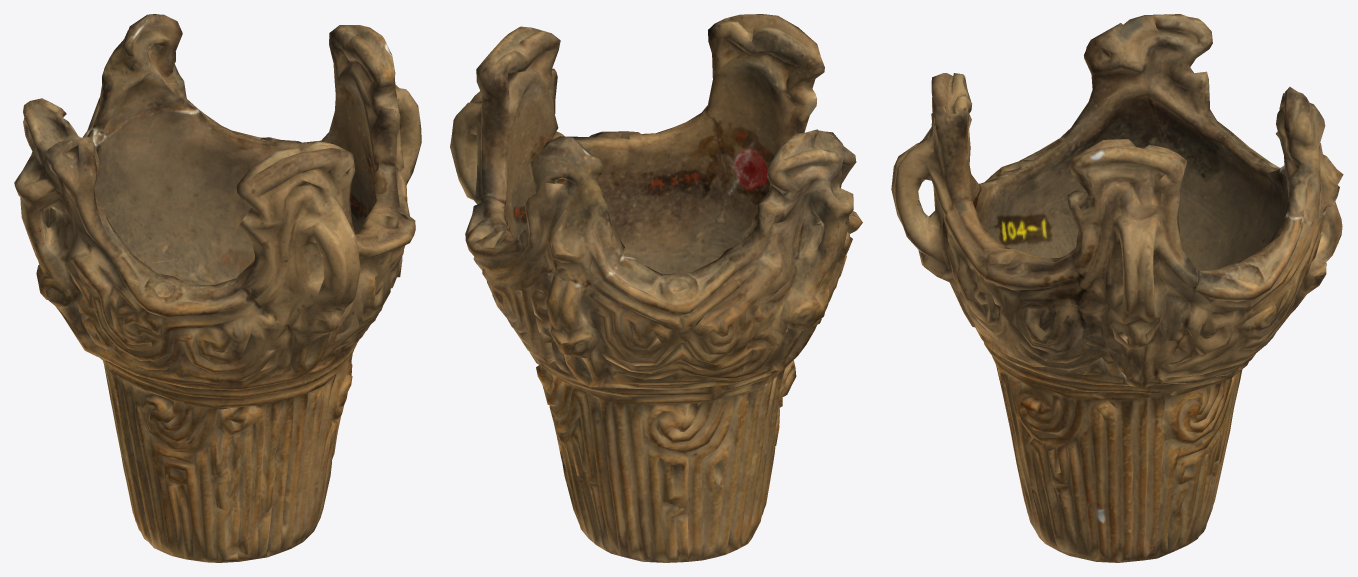
3 views of the same model, side by side, from view 1: azimuth 30°, elevation 25°; view 2: azimuth 150°, elevation 25°; view 3: azimuth 270°, elevation 25° (orthographic).
Parts seen in each view (by area): view 1: SK0002_low; view 2: SK0002_low; view 3: SK0002_low.
Boxes of the visible parts, left/top/right/bottom form: SK0002_low: left=14, top=14, right=421, bottom=562; SK0002_low: left=450, top=14, right=862, bottom=562; SK0002_low: left=891, top=14, right=1343, bottom=562.
Size of the model in its own units: 254 by 279 by 252.
1 material, 1 textured.
